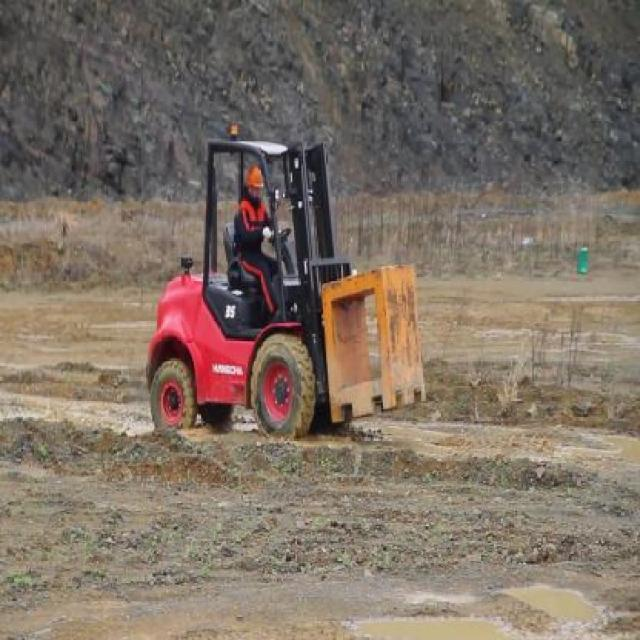forklift: (146, 143, 331, 442)
